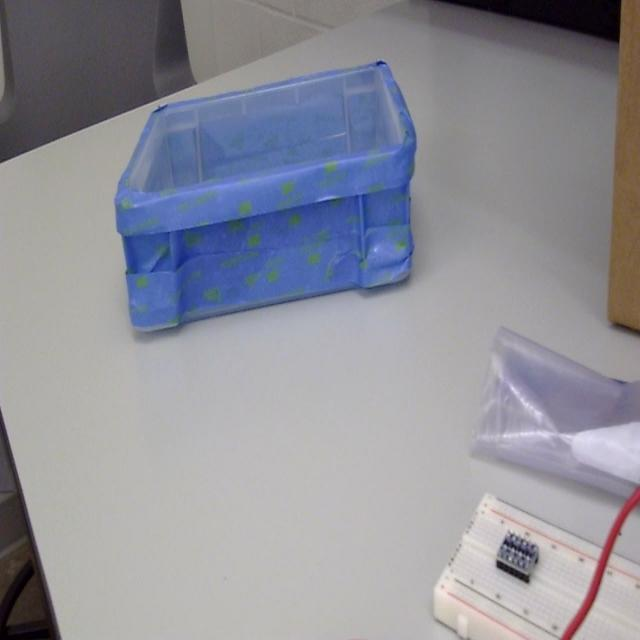bucket: (114, 60, 418, 339)
